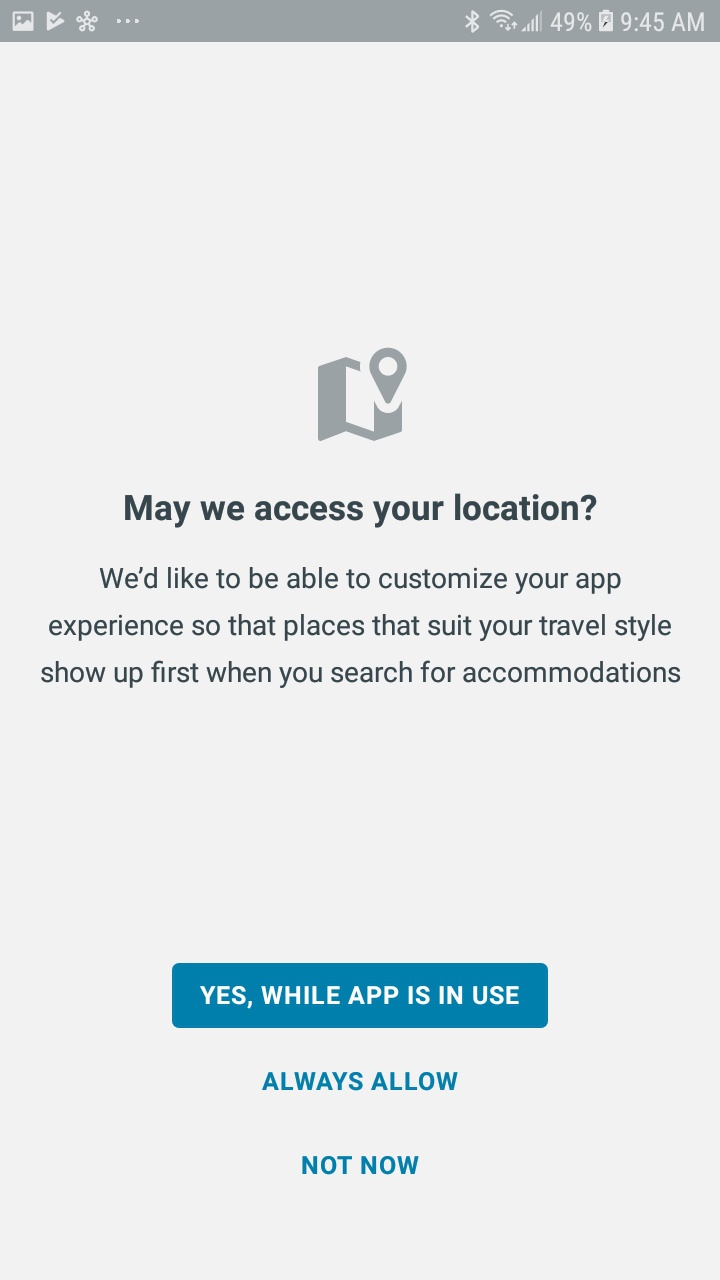Icon: (318, 348, 409, 442)
Text: (41, 567, 681, 690), (125, 493, 597, 529), (262, 1071, 458, 1091), (302, 1155, 420, 1175)
TextButton: (172, 962, 549, 1029)
UpperTaskBar: (1, 1, 720, 43)
